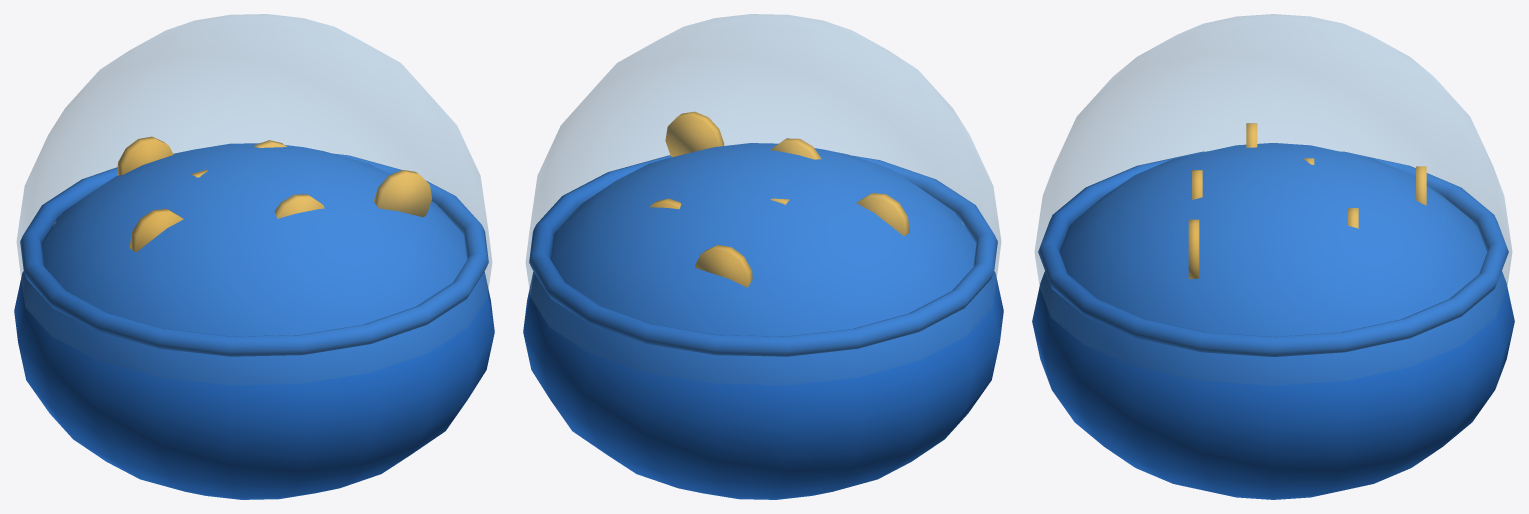
File: SM_UncommonCapsule.fbx
3 views of the same model, side by side, from view 1: azimuth 30°, elevation 25°; view 2: azimuth 150°, elevation 25°; view 3: azimuth 270°, elevation 25° (orthographic).
Visible parts, largest first — view 1: SM_UncommonCapsule; view 2: SM_UncommonCapsule; view 3: SM_UncommonCapsule.
Boxes of the visible parts, box(x1,y1,x2,y2) form: SM_UncommonCapsule: box(14, 14, 494, 499); SM_UncommonCapsule: box(523, 14, 1003, 499); SM_UncommonCapsule: box(1032, 14, 1514, 499).
Bounding box in the file's own units: 2.02 × 2.02 × 2.
